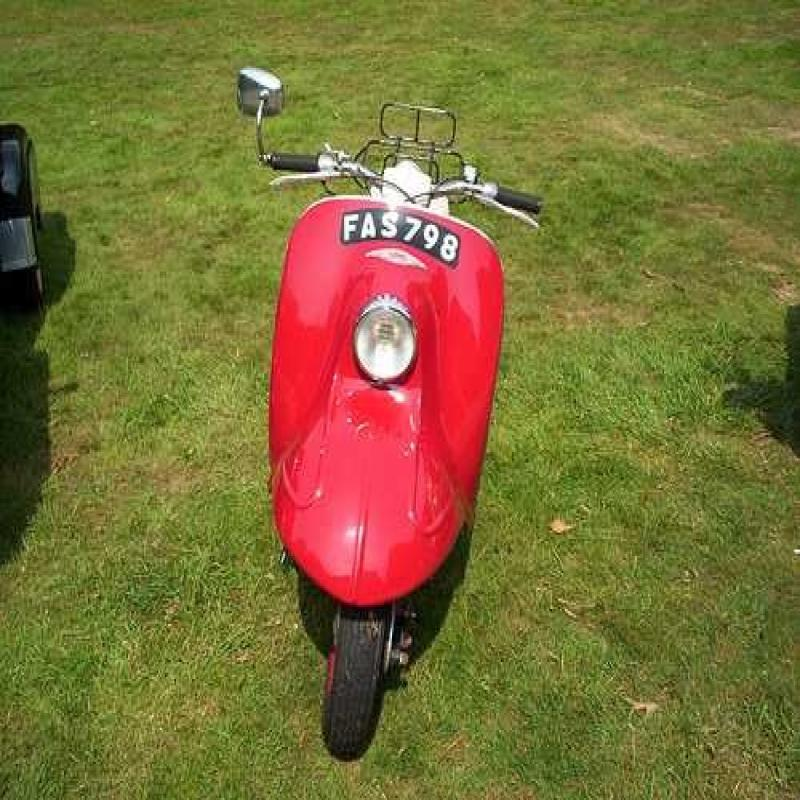bike: (254, 99, 514, 712)
